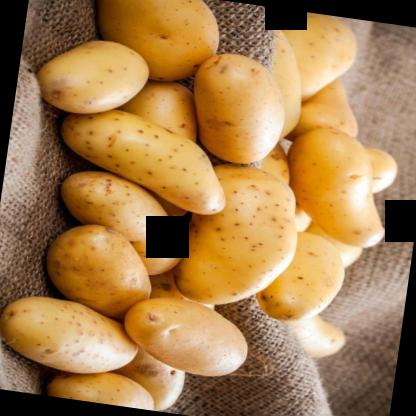potato: (54, 101, 237, 218), (172, 157, 306, 316), (45, 167, 192, 278), (274, 121, 396, 250), (184, 48, 292, 169), (0, 290, 143, 381), (88, 0, 228, 90), (117, 290, 256, 380), (40, 218, 162, 320), (31, 32, 154, 122), (263, 8, 360, 110), (251, 230, 346, 327), (40, 364, 158, 410)
